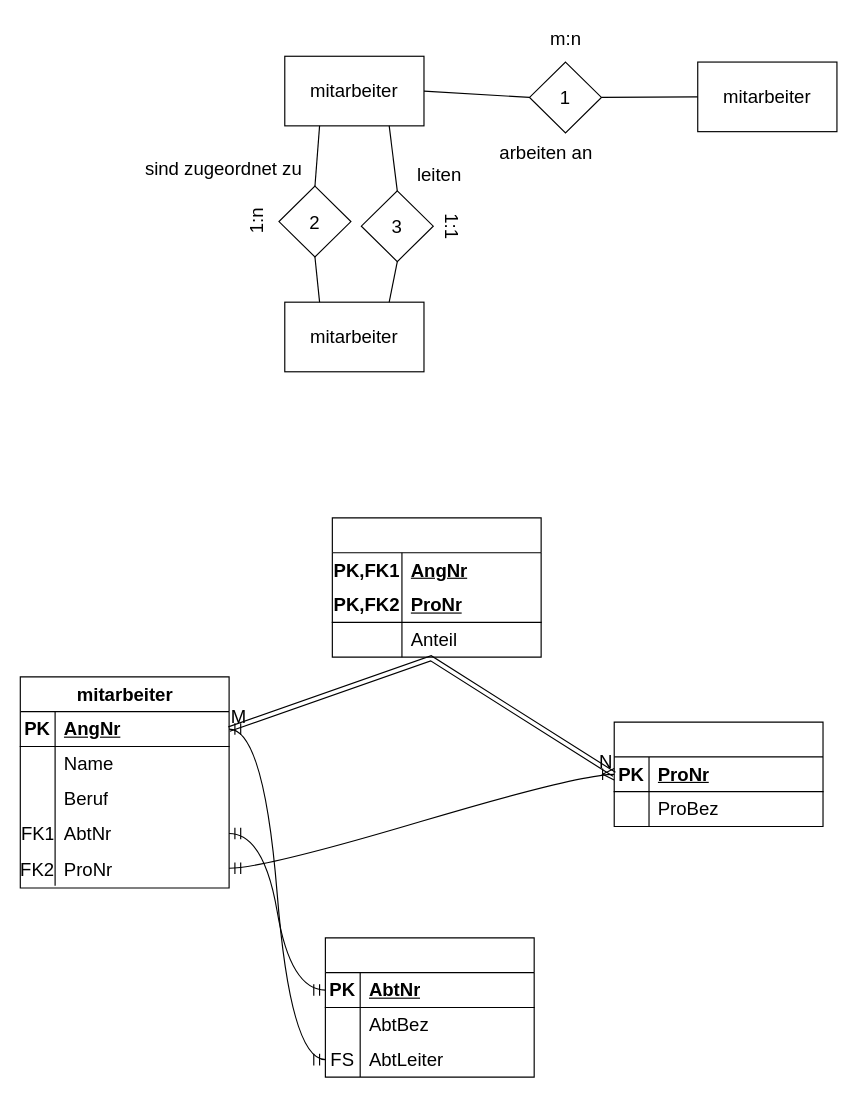
Some shapes in this 857 by 1097 pixel diagram are drawn without their labels. The shapes that lost their labels are listed below. From the top down, each one's box as (x1, y1, x2, y2) in pixels, then its label:
(331, 517, 541, 657): arbeitszeit
(613, 721, 823, 826): projekte
(324, 937, 534, 1077): abteilung
